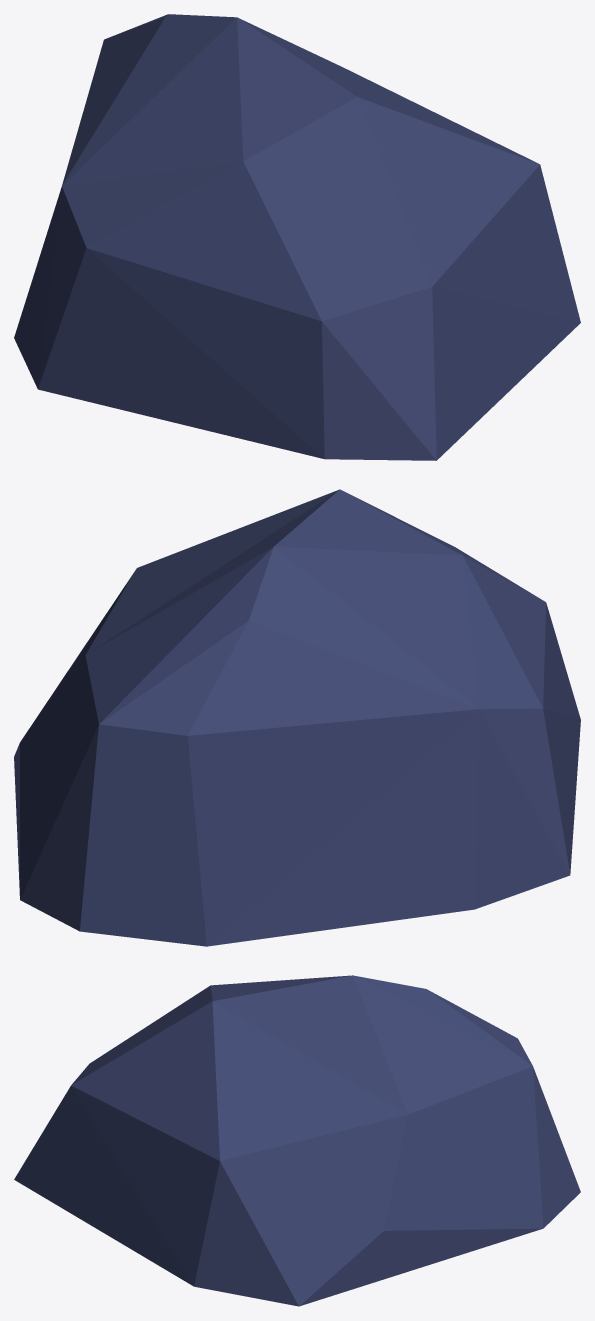
File: small-rock-2.fbx
The picture shows the model from 3 angles, top to bottom: view 1: azimuth 30°, elevation 25°; view 2: azimuth 150°, elevation 25°; view 3: azimuth 270°, elevation 25°; orthographic projection. The views are drawn at different scales.
Visible parts, largest first — view 1: Cube; view 2: Cube; view 3: Cube.
Boxes of the visible parts, left/top/right/bottom form: Cube: left=14, top=14, right=580, bottom=460; Cube: left=14, top=489, right=580, bottom=946; Cube: left=14, top=975, right=580, bottom=1306.
Size of the model in its own units: 226 by 121 by 277.
